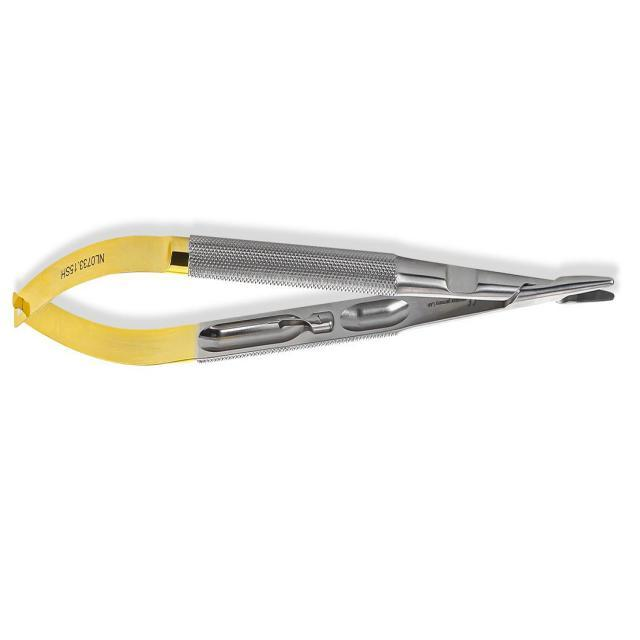Castroviejo: (8, 228, 620, 370)
